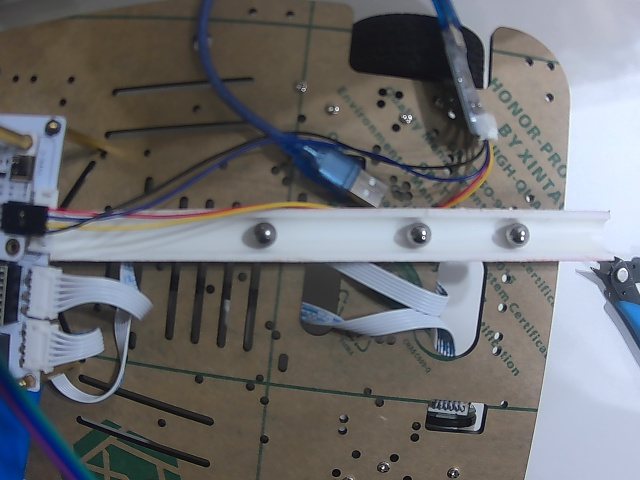steelball: (250, 222, 276, 248), (407, 222, 432, 248), (505, 223, 530, 246)
